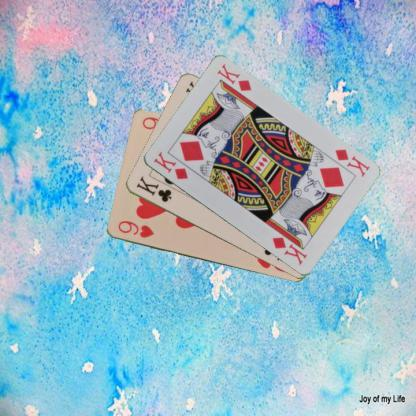9h: (115, 218, 155, 240)
Kc: (133, 174, 173, 204)
Kd: (332, 146, 371, 179), (150, 149, 189, 181)
